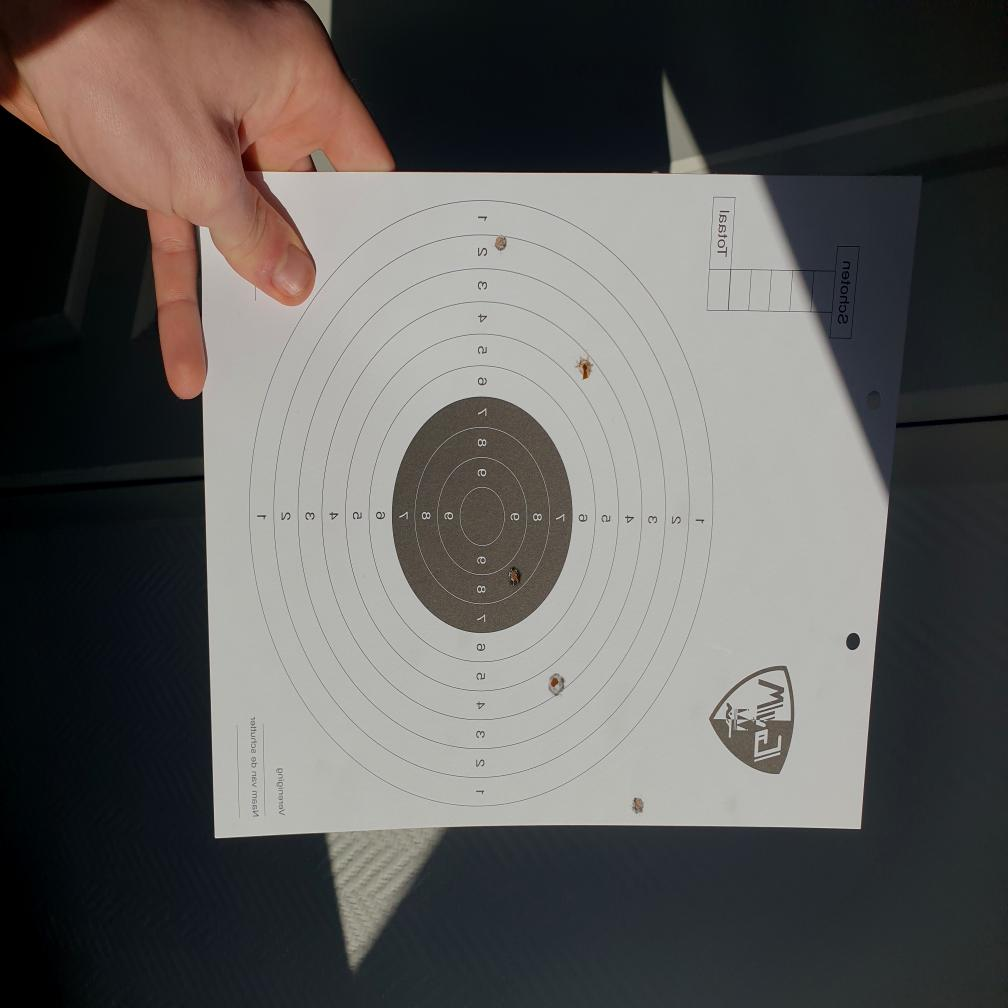0: (632, 797, 644, 814)
2: (494, 233, 507, 252)
4: (575, 354, 594, 380), (548, 673, 566, 698)
8: (508, 566, 522, 586)
Target: (247, 195, 715, 810)
black_contour: (391, 397, 575, 631)
